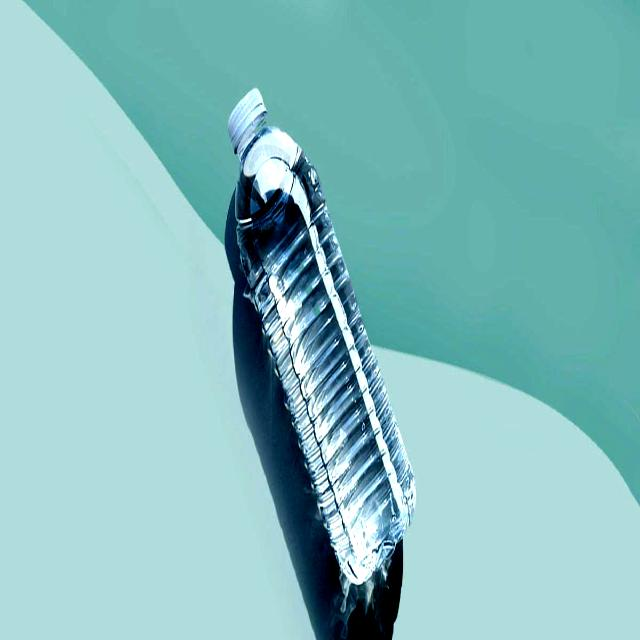full-bottle: (219, 96, 424, 586)
